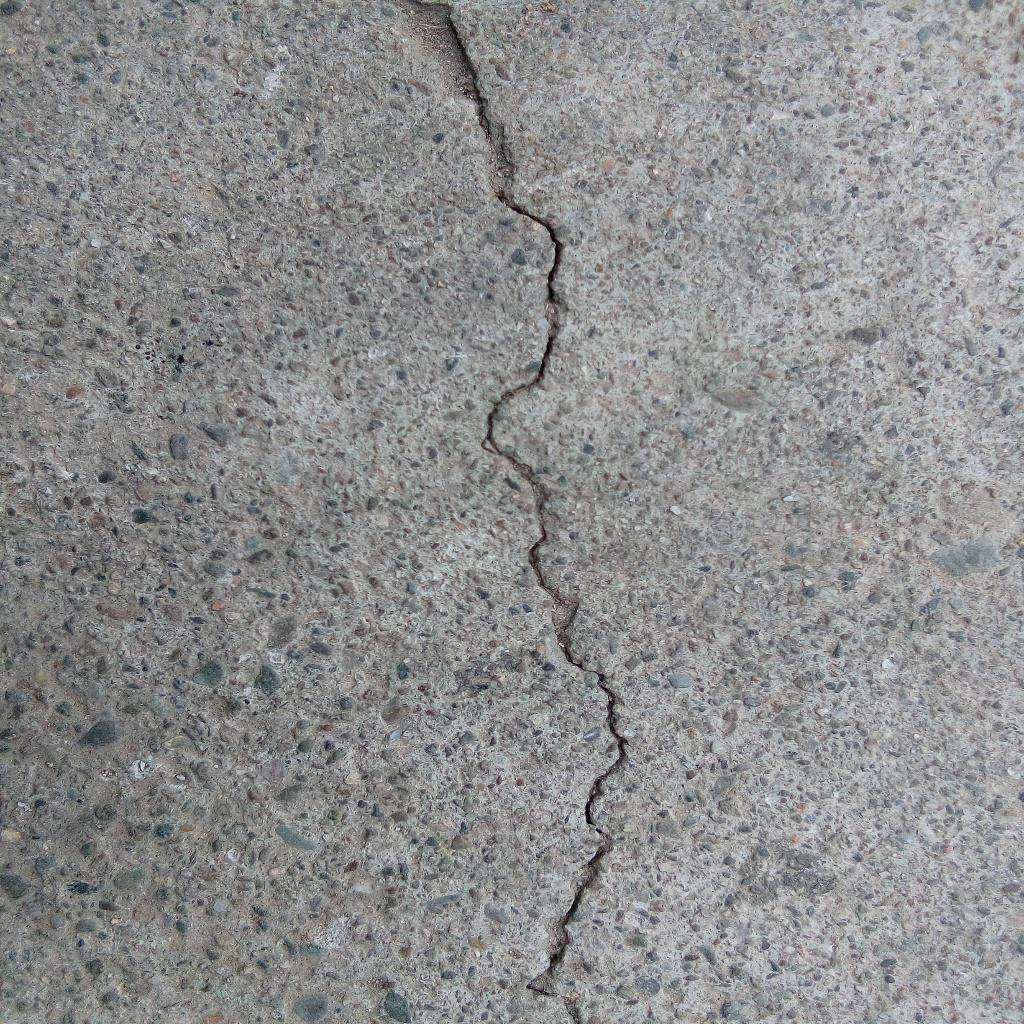Crack: (440, 1, 627, 1024)
